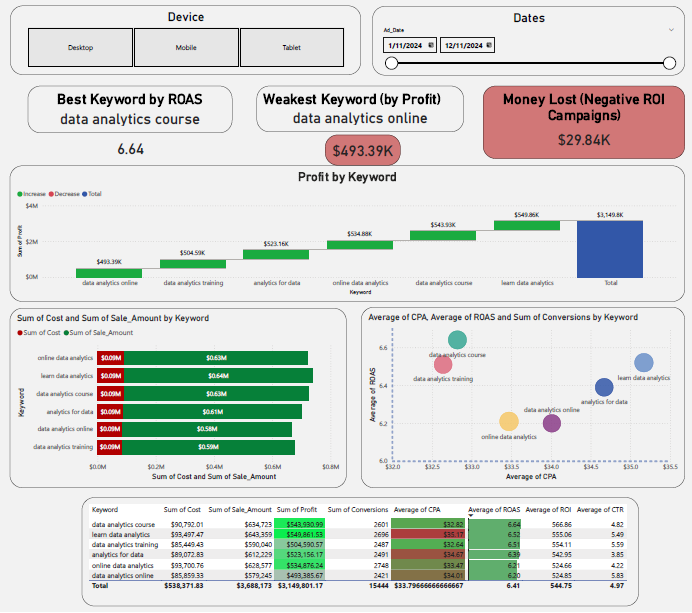

This screenshot's page, from the dashboard's own definition file:
{"tool":"powerbi","page":{"name":"Page 3 - Keyword Analysis","canvas":[1350,1190],"ordinal":2},"visuals":[{"type":"waterfallChart","title":"Profit by Keyword","fields":{"Category":["keyword_summary.Keyword"],"Y":["Sum(keyword_summary.Profit)"]},"box":[20,322.5,1312.5,265],"z":0},{"type":"scatterChart","fields":{"X":["Avg(keyword_summary.CPA)"],"Y":["Avg(keyword_summary.ROAS)"],"Series":["keyword_summary.Keyword"],"Size":["Sum(keyword_summary.Conversions)"]},"box":[702.5,597.5,630,352.5],"z":1000},{"type":"barChart","fields":{"Category":["keyword_summary.Keyword"],"Y":["Sum(keyword_summary.Cost)","Sum(keyword_summary.Sale_Amount)"]},"box":[20,600,655,350],"z":2000},{"type":"card","title":"Best Keyword by ROAS","fields":{"Values":["Min(keyword_summary.Keyword)"]},"box":[55,167.5,397.5,92.5],"z":3000},{"type":"card","fields":{"Values":["Avg(keyword_summary.ROAS)"]},"box":[85,267.5,340,40],"z":4000},{"type":"card","title":" Weakest Keyword (by Profit)","fields":{"Values":["Min(keyword_summary.Keyword)"]},"box":[500,167.5,402.5,90],"z":5000},{"type":"card","fields":{"Values":["Sum(keyword_summary.Profit)"]},"box":[632.5,262.5,147.5,60],"z":6000},{"type":"card","title":"Money Lost (Negative ROI Campaigns)","fields":{"Values":["marketing_data_FINAL.Money Wasted"]},"box":[940,167.5,392.5,142.5],"z":7000},{"type":"slicer","title":"Device","fields":{"Values":["marketing_data_FINAL.Device"]},"box":[21,11.7,682,135.5],"z":8000},{"type":"slicer","title":"Dates","fields":{"Values":["marketing_data_FINAL.Ad_Date"]},"box":[725,12.5,607.5,135],"z":9000},{"type":"tableEx","fields":{"Values":["keyword_summary.Keyword","Sum(keyword_summary.Cost)","Sum(keyword_summary.Sale_Amount)","Sum(keyword_summary.Profit)","Sum(keyword_summary.Conversions)","Avg(keyword_summary.CPA)","Avg(keyword_summary.ROAS)","Avg(keyword_summary.ROI)","Avg(keyword_summary.CTR)"]},"box":[160,967.5,1082.5,212.5],"z":10000}]}

Visuals, with their boxes in screenshot pixels (x1, y1, x2, y2), scaled from the page's 1350x1190 canvas onto the 692x613 screenshot:
"Profit by Keyword" waterfallChart: 10 166 683 303
scatterChart - Avg(keyword_summary.CPA) x Avg(keyword_summary.ROAS): 360 308 683 489
barChart - keyword_summary.Keyword x Sum(keyword_summary.Cost): 10 309 346 489
"Best Keyword by ROAS" card: 28 86 232 134
card - Avg(keyword_summary.ROAS): 44 138 218 158
" Weakest Keyword (by Profit)" card: 256 86 463 133
card - Sum(keyword_summary.Profit): 324 135 400 166
"Money Lost (Negative ROI Campaigns)" card: 482 86 683 160
"Device" slicer: 11 6 360 76
"Dates" slicer: 372 6 683 76
tableEx - keyword_summary.Keyword x Sum(keyword_summary.Cost): 82 498 637 608
